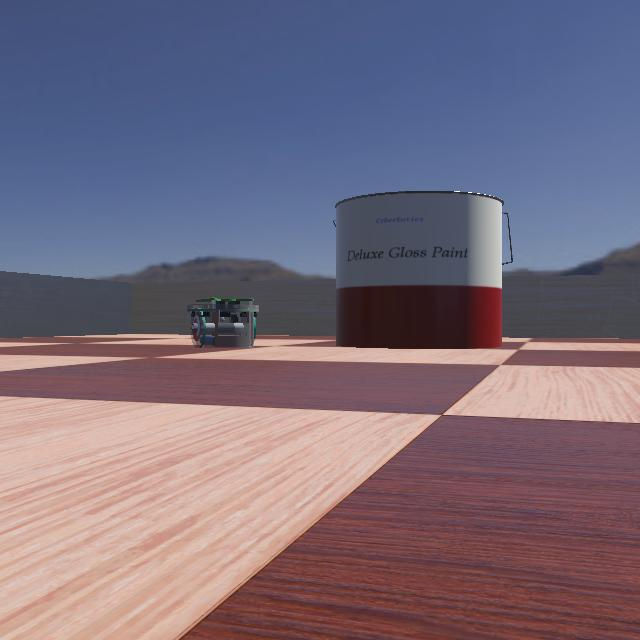paint-bucket: (330, 190, 554, 350)
